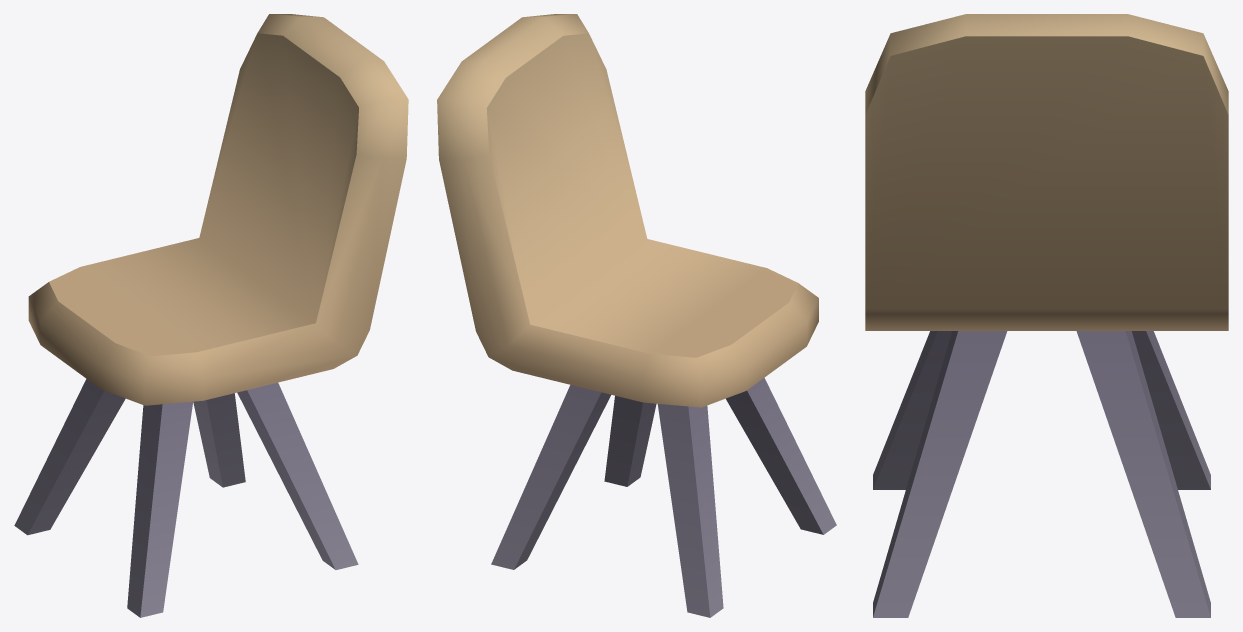
Rendered from cross-chair.glb.
The picture shows the model from 3 angles, left to right: view 1: azimuth 30°, elevation 25°; view 2: azimuth 150°, elevation 25°; view 3: azimuth 270°, elevation 25°; orthographic projection. The views are drawn at different scales.
Parts seen in each view (by area): view 1: cross-chair; view 2: cross-chair; view 3: cross-chair.
Part boxes in pixels (x1,y1,x2,y2): cross-chair: (14,14,408,617); cross-chair: (437,14,836,617); cross-chair: (865,14,1228,617).
Bounding box in the file's own units: 0.4351 × 0.6875 × 0.36.
